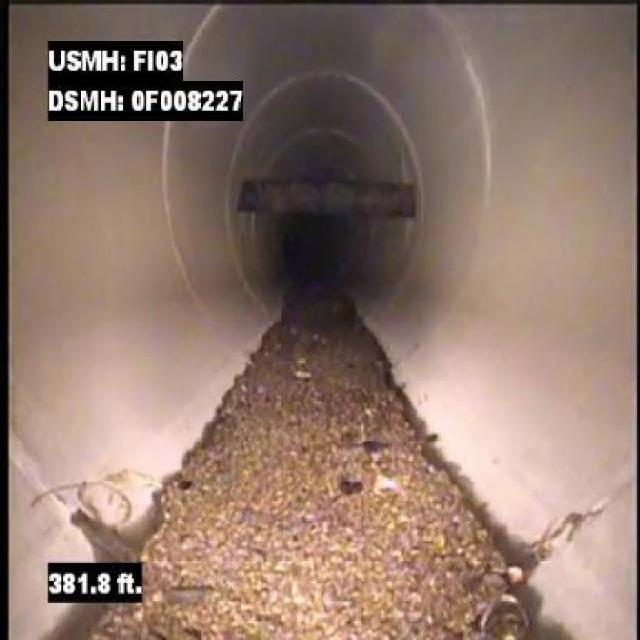Debris: (138, 394, 488, 561)
